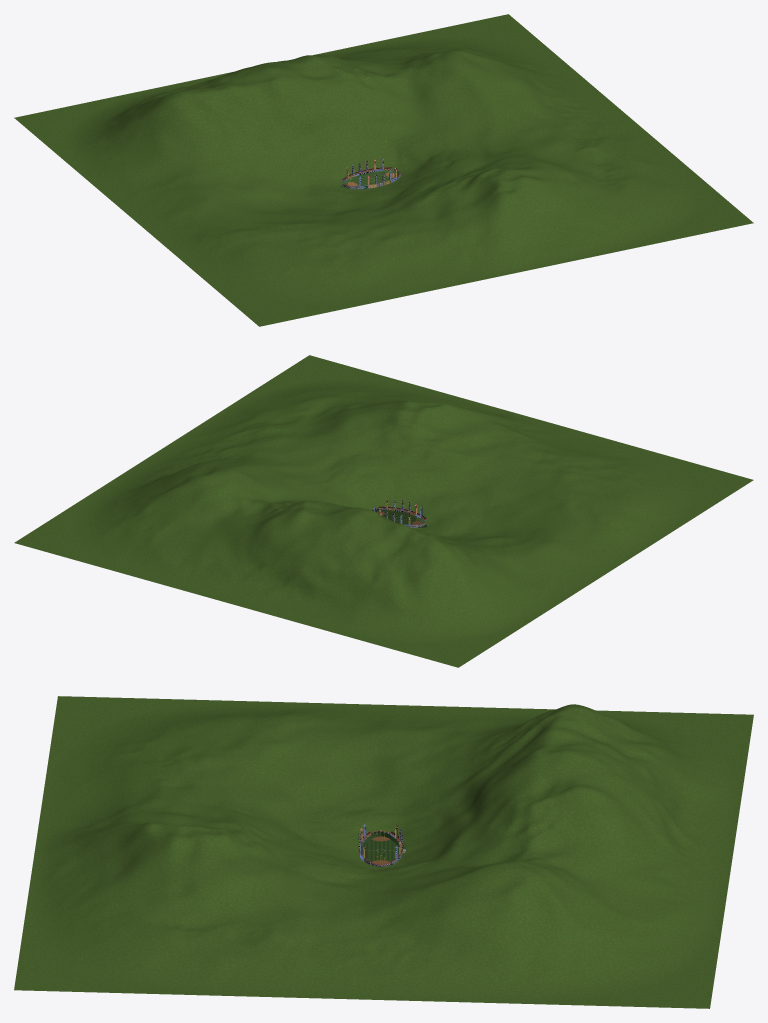
File: QuidditchPitch08.fbx
The picture shows the model from 3 angles, top to bottom: view 1: azimuth 30°, elevation 25°; view 2: azimuth 150°, elevation 25°; view 3: azimuth 270°, elevation 25°; orthographic projection. The views are drawn at different scales.
Visible parts, largest first — view 1: SM_Landscape; view 2: SM_Landscape; view 3: SM_Landscape, SM_GroundCenter.
Part boxes in pixels (x1,y1,x2,y2): SM_Landscape: [14, 14, 753, 326]; SM_Landscape: [14, 355, 753, 667]; SM_Landscape: [14, 696, 753, 1008]; SM_GroundCenter: [365, 839, 396, 862].
Bounding box in the file's own units: 159158 × 19810 × 159158.
27 materials, 27 textured.
